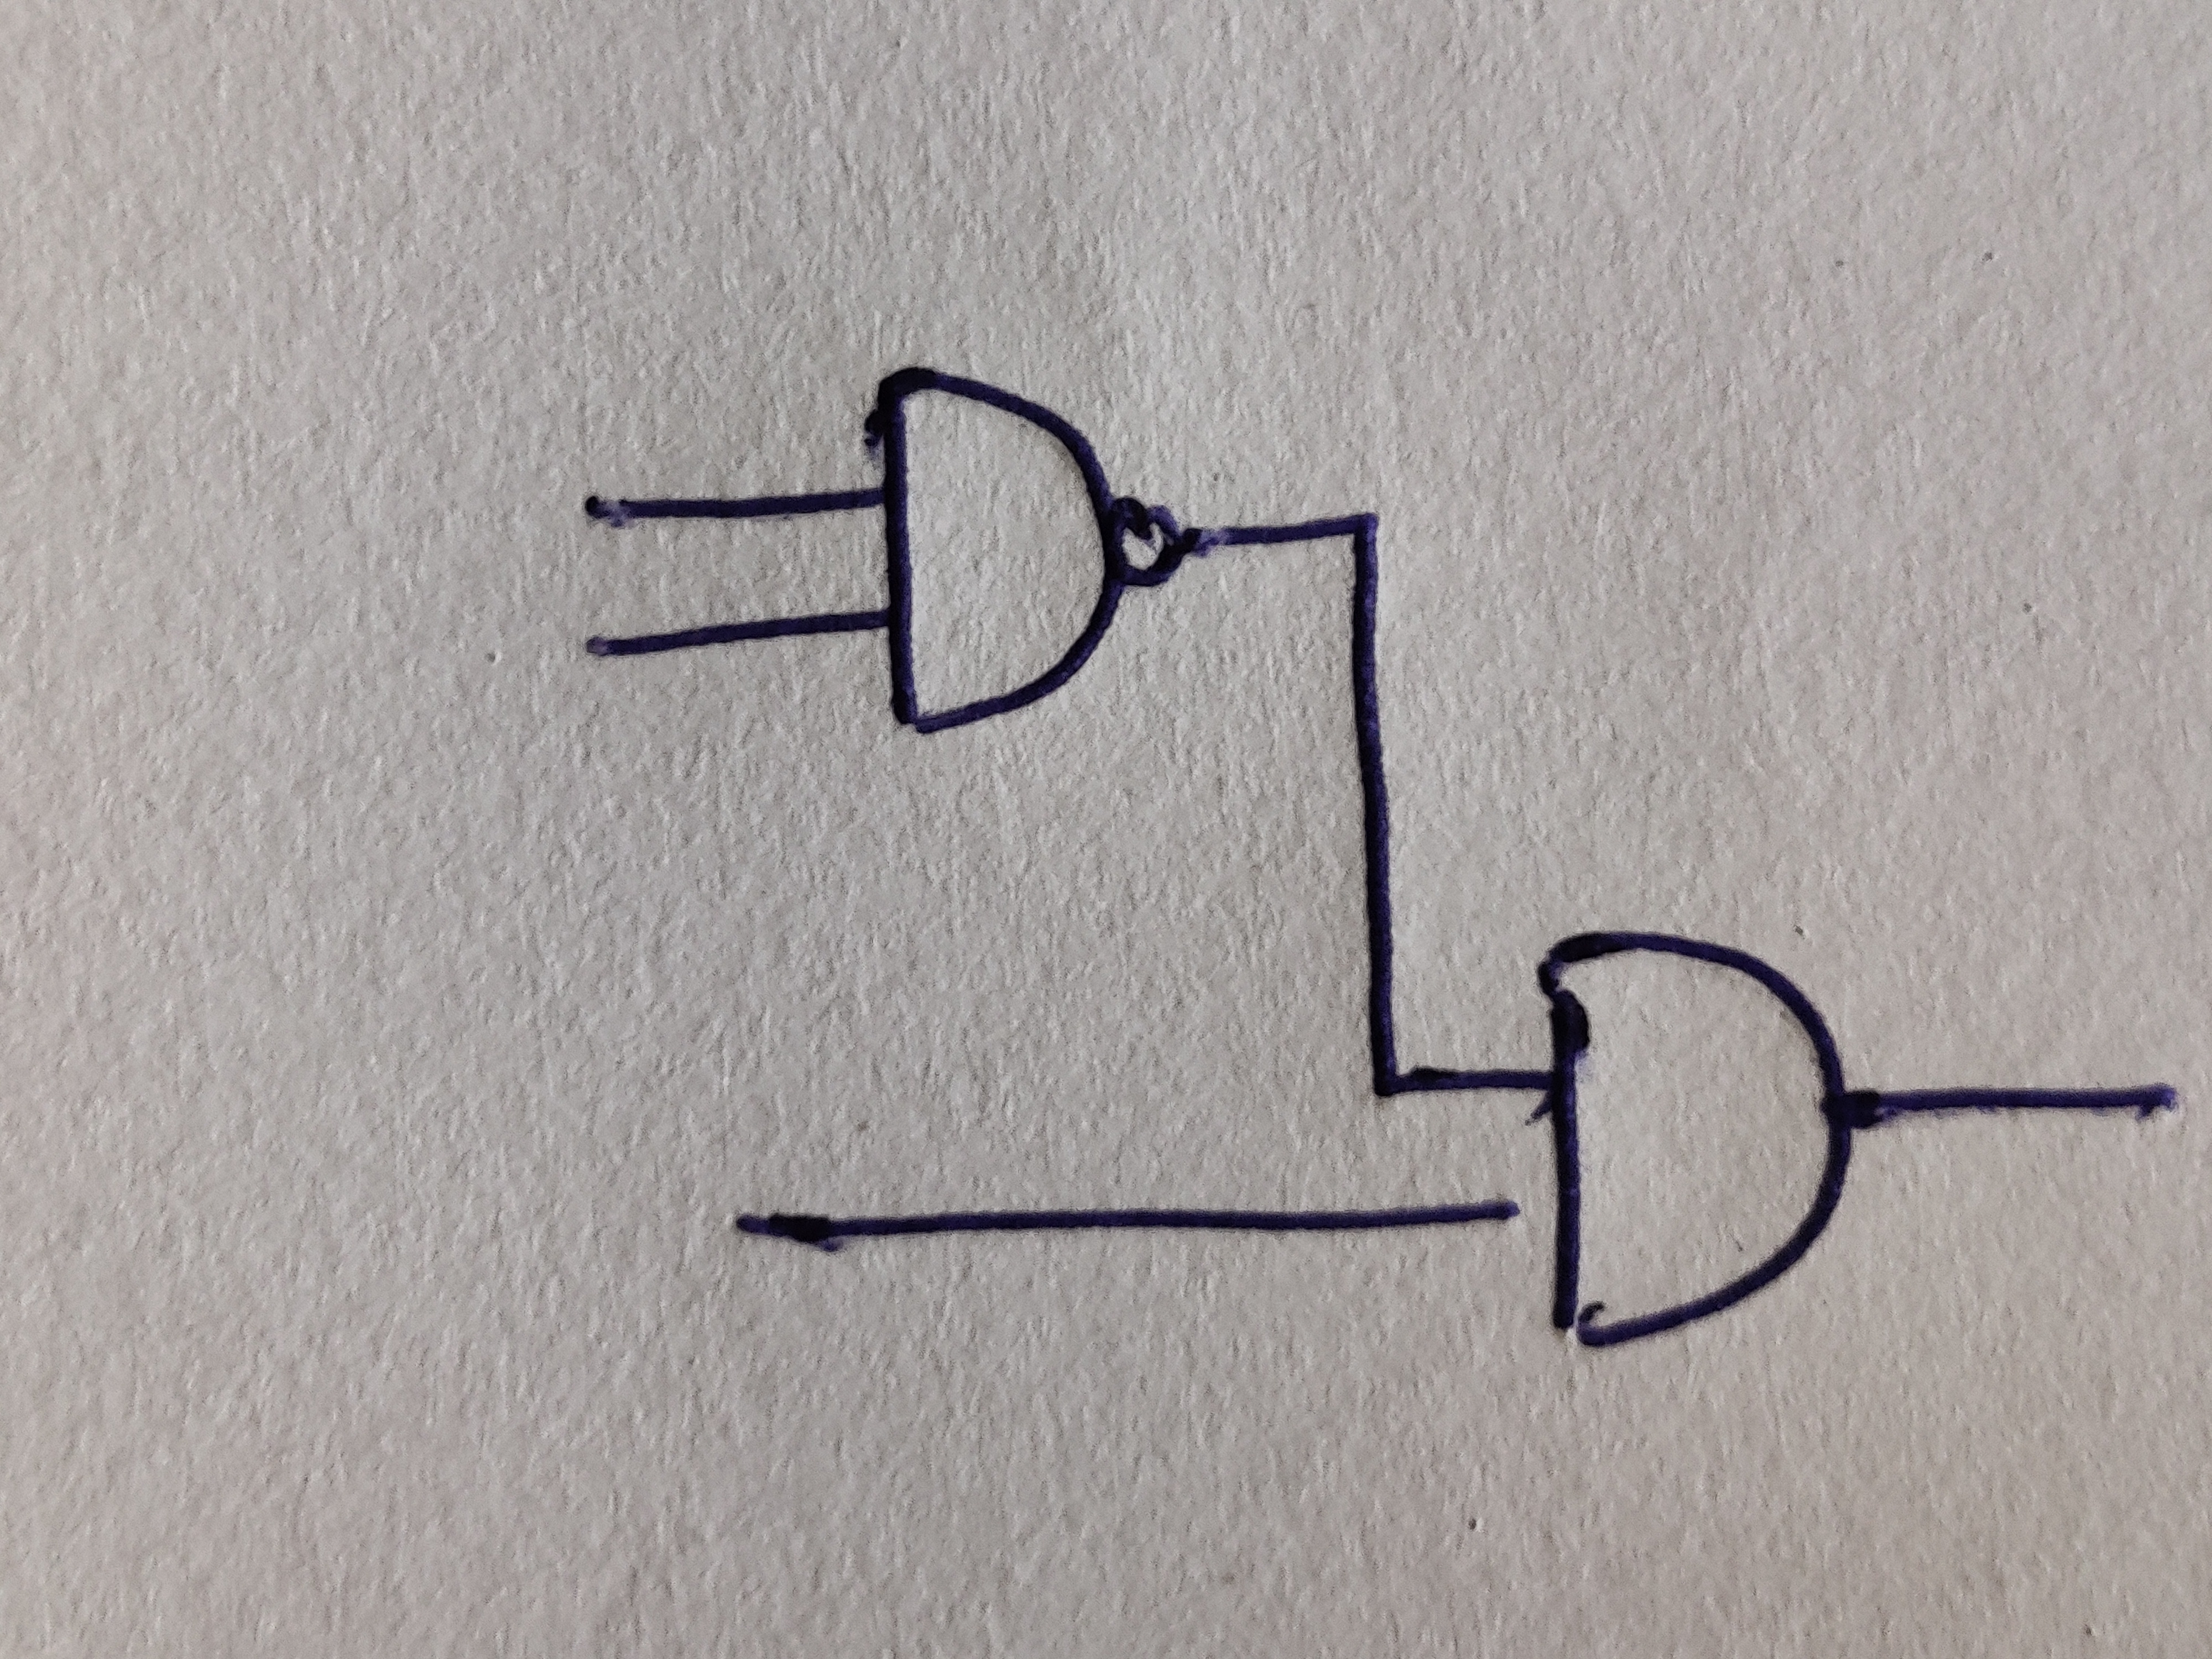and: (1540, 931, 1851, 1347), (867, 366, 1125, 737)
not: (1113, 495, 1184, 587)
